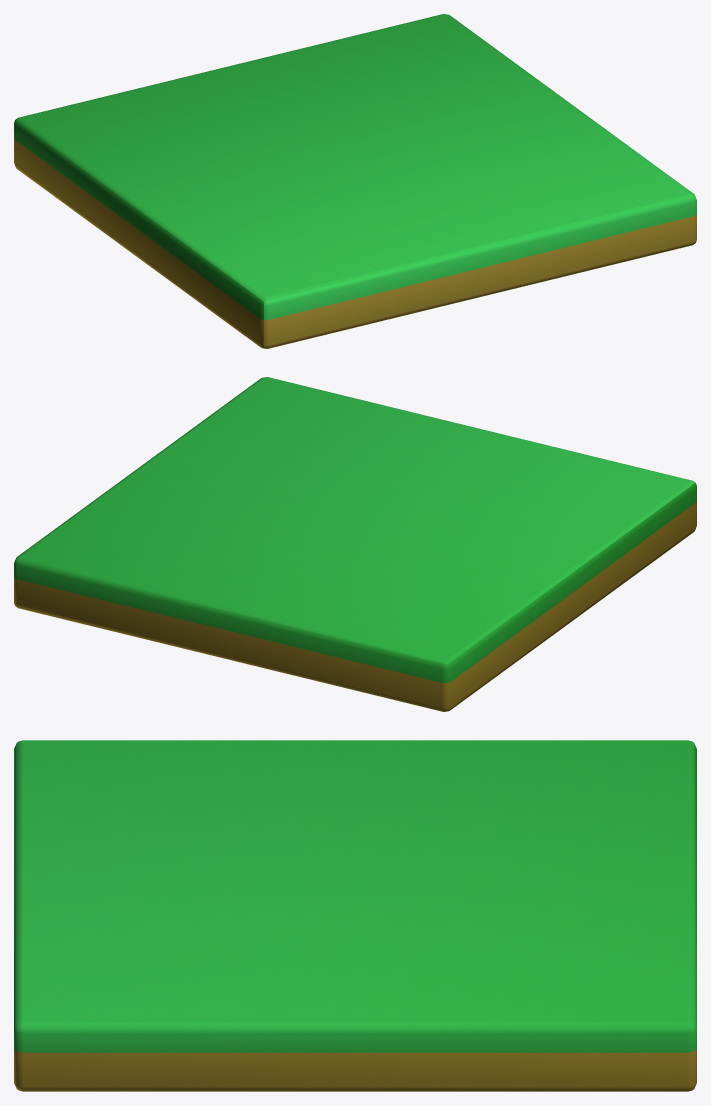
File: ground.fbx
The picture shows the model from 3 angles, top to bottom: view 1: azimuth 30°, elevation 25°; view 2: azimuth 150°, elevation 25°; view 3: azimuth 270°, elevation 25°; orthographic projection. The views are drawn at different scales.
Visible parts, largest first — view 1: Cube.001; view 2: Cube.001; view 3: Cube.001.
Boxes of the visible parts, x1,y1,x2,y2 form: Cube.001: [14, 14, 696, 348]; Cube.001: [14, 377, 696, 711]; Cube.001: [14, 740, 696, 1091].
Bounding box in the file's own units: 1765 × 200 × 1765.
